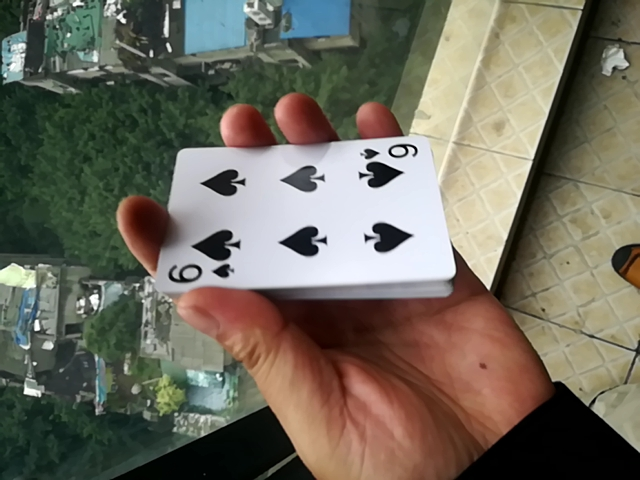ht 6: (160, 140, 456, 292)
